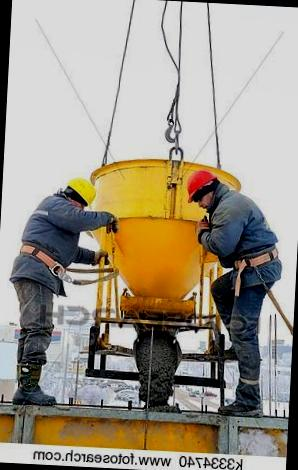helmet: (180, 166, 225, 210), (62, 174, 105, 206)
no_vest: (196, 190, 276, 306), (12, 203, 93, 298)
person: (172, 165, 290, 422), (4, 174, 110, 401)
